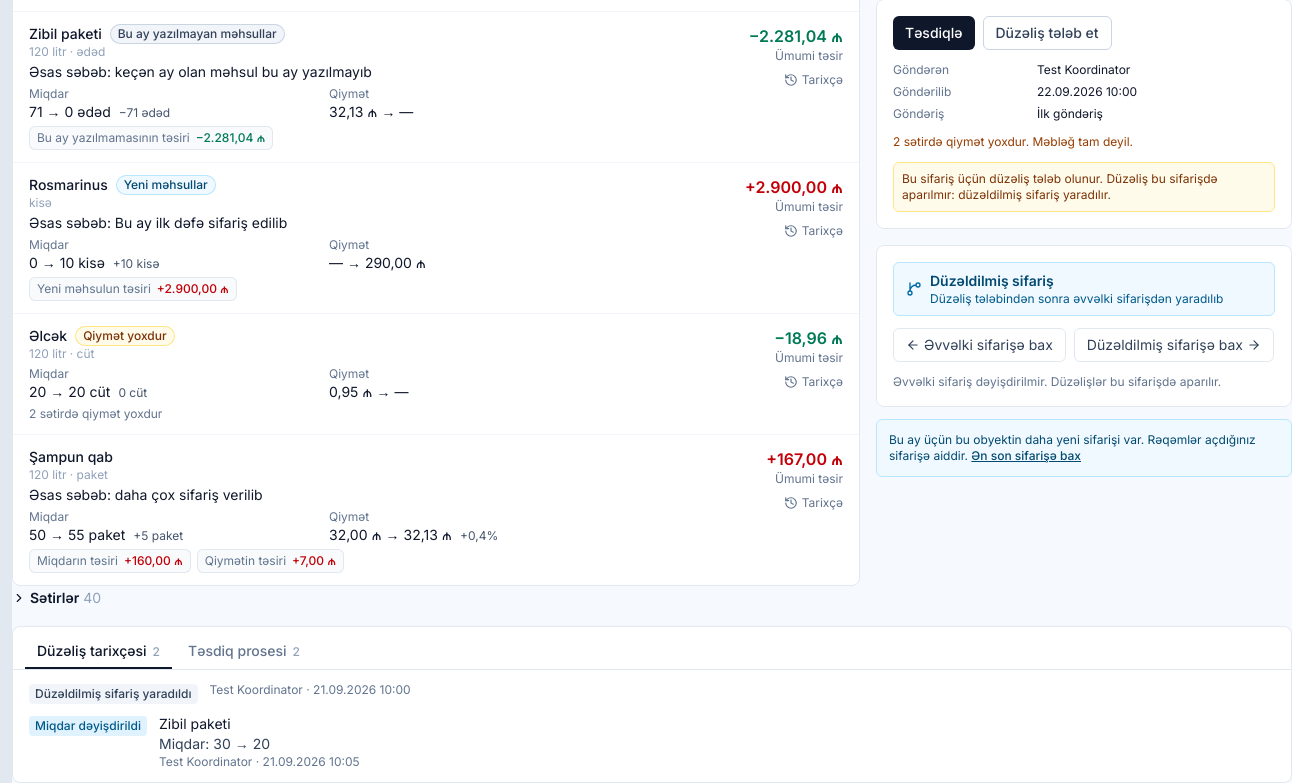
Test case: no retired word on the manager’s screens › the order page of a correction, with the correction panel and both histories
(page scrolled)
Check: the text "Düzəldilmiş sifariş yaradıldı" is shown, box [29, 684, 198, 704]
Check: the link "Ən son sifarişə bax" is shown, box [971, 448, 1081, 463]
Click the tab "Təsdiq prosesi2" at (244, 652), box [176, 635, 312, 669]
(page scrolled)
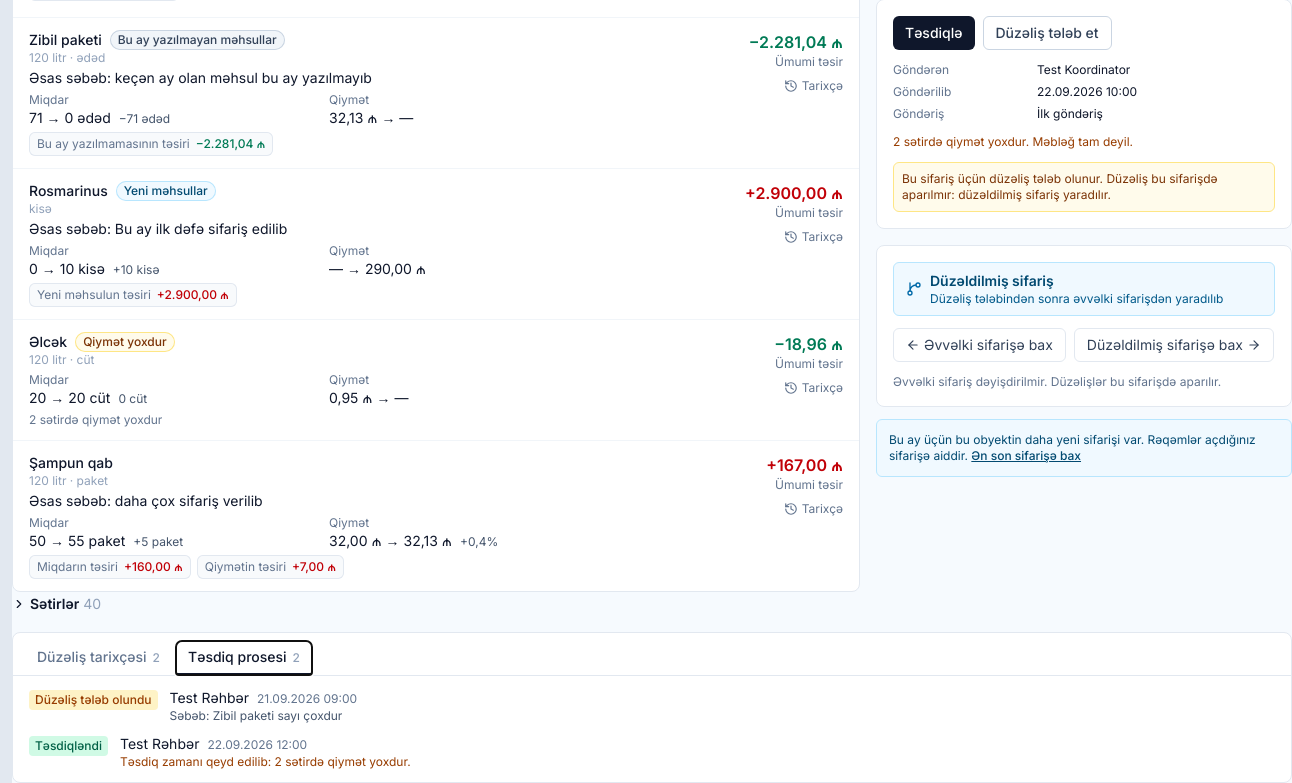
Check: the text "Düzəliş tələb olundu" is shown, box [29, 690, 158, 710]
